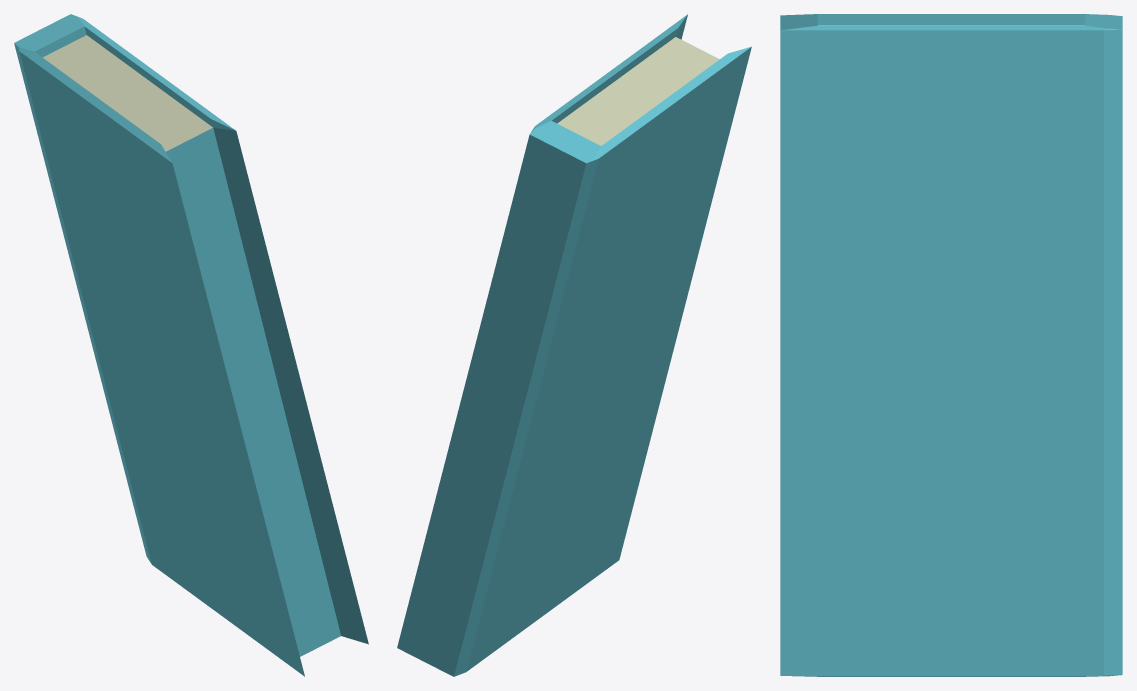
The model's file is Book2_Material.fbx.
The picture shows the model from 3 angles, left to right: view 1: azimuth 30°, elevation 25°; view 2: azimuth 150°, elevation 25°; view 3: azimuth 270°, elevation 25°; orthographic projection. The views are drawn at different scales.
Parts seen in each view (by area): view 1: Book.008; view 2: Book.008; view 3: Book.008.
Boxes of the visible parts, x1,y1,x2,y2 form: Book.008: [14, 14, 368, 676]; Book.008: [397, 14, 751, 676]; Book.008: [780, 14, 1122, 676].
Size of the model in its own units: 0.072 by 0.1978 by 0.103.
